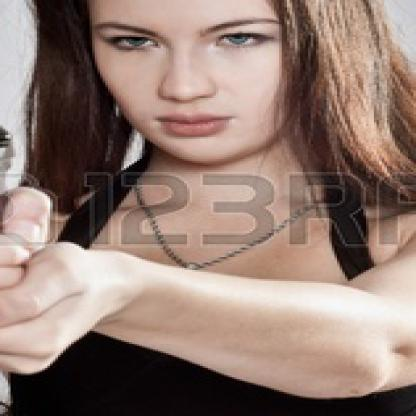gun: (0, 90, 69, 278)
